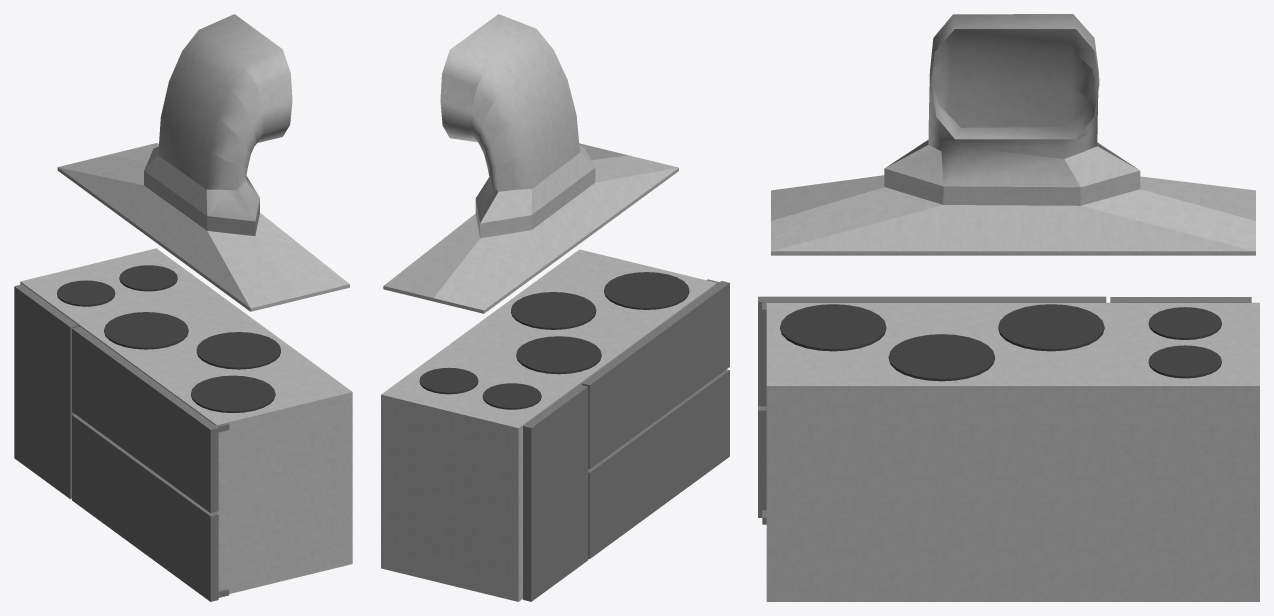
The model's file is Oven.fbx.
The picture shows the model from 3 angles, left to right: view 1: azimuth 30°, elevation 25°; view 2: azimuth 150°, elevation 25°; view 3: azimuth 270°, elevation 25°; orthographic projection. The views are drawn at different scales.
Visible parts, largest first — view 1: propOven; view 2: propOven; view 3: propOven.
Boxes of the visible parts, bbox=[...] form: propOven: bbox=[14, 14, 352, 601]; propOven: bbox=[381, 14, 729, 601]; propOven: bbox=[758, 14, 1259, 601].
Size of the model in its own units: 94.93 by 276 by 218.
Materials: 3 (1 with a texture image).
